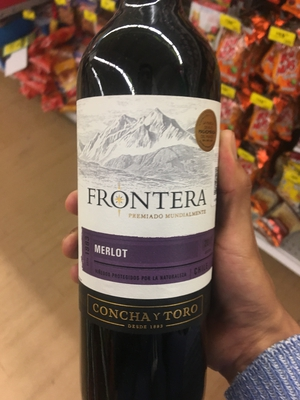frontera merlot: (78, 1, 218, 373)
